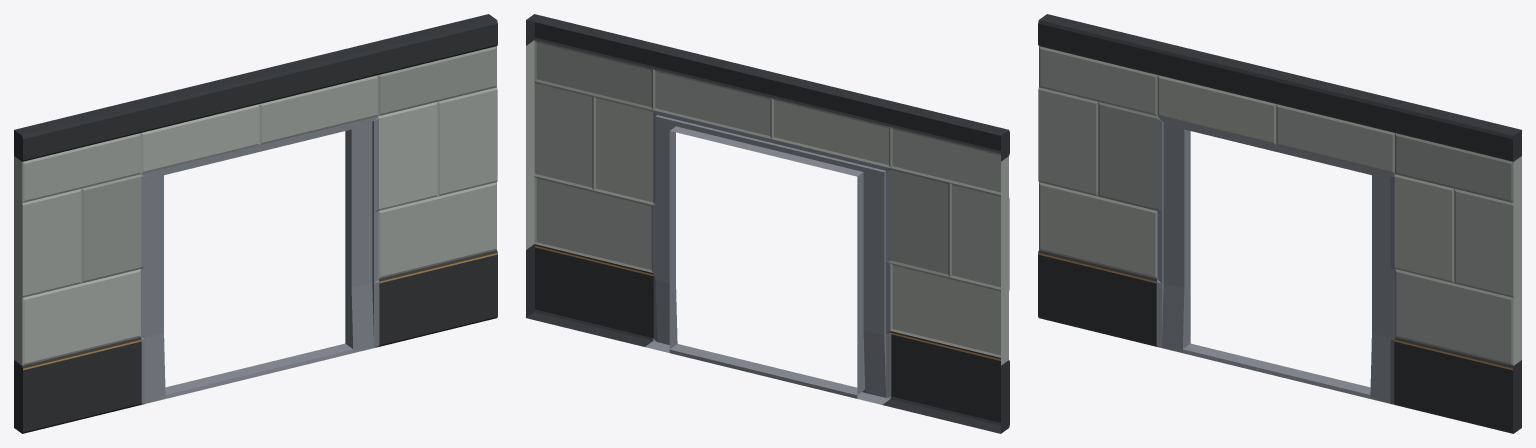
The model's file is Wall_Interior_DoubleDoor_01.glb.
3 views of the same model, side by side, from view 1: azimuth 30°, elevation 25°; view 2: azimuth 150°, elevation 25°; view 3: azimuth 330°, elevation 25° (orthographic).
Visible parts, largest first — view 1: SM_Env_Wall_Interior_DoubleDoor_01; view 2: SM_Env_Wall_Interior_DoubleDoor_01; view 3: SM_Env_Wall_Interior_DoubleDoor_01.
Part boxes in pixels (x1,y1,x2,y2): SM_Env_Wall_Interior_DoubleDoor_01: [14, 14, 497, 433]; SM_Env_Wall_Interior_DoubleDoor_01: [526, 14, 1009, 433]; SM_Env_Wall_Interior_DoubleDoor_01: [1038, 14, 1521, 433].
Size of the model in its own units: 5 by 3 by 0.1636.
Materials: 1 (1 with a texture image).
